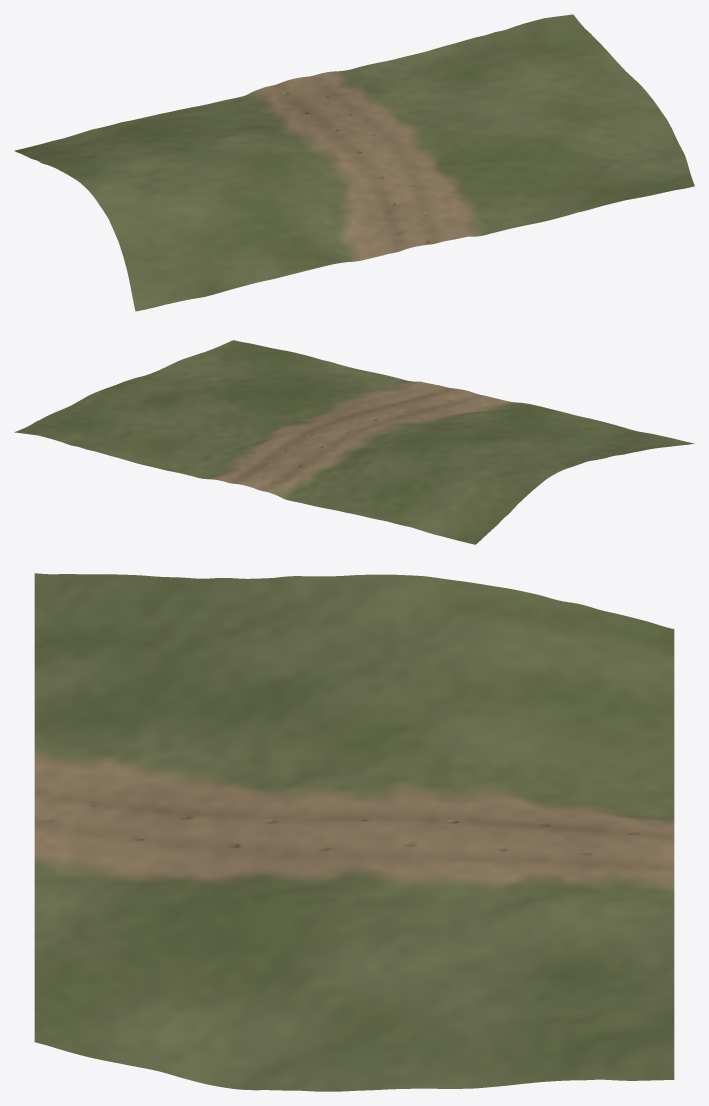
The model's file is terrain_1.glb.
The picture shows the model from 3 angles, top to bottom: view 1: azimuth 30°, elevation 25°; view 2: azimuth 150°, elevation 25°; view 3: azimuth 270°, elevation 25°; orthographic projection. The views are drawn at different scales.
Parts seen in each view (by area): view 1: CountryTerrain_1; view 2: CountryTerrain_1; view 3: CountryTerrain_1.
Boxes of the visible parts, x1,y1,x2,y2 form: CountryTerrain_1: (14, 14, 694, 311); CountryTerrain_1: (14, 340, 694, 544); CountryTerrain_1: (34, 573, 674, 1091).
Bounding box in the file's own units: 22.58 × 1.62 × 12.
